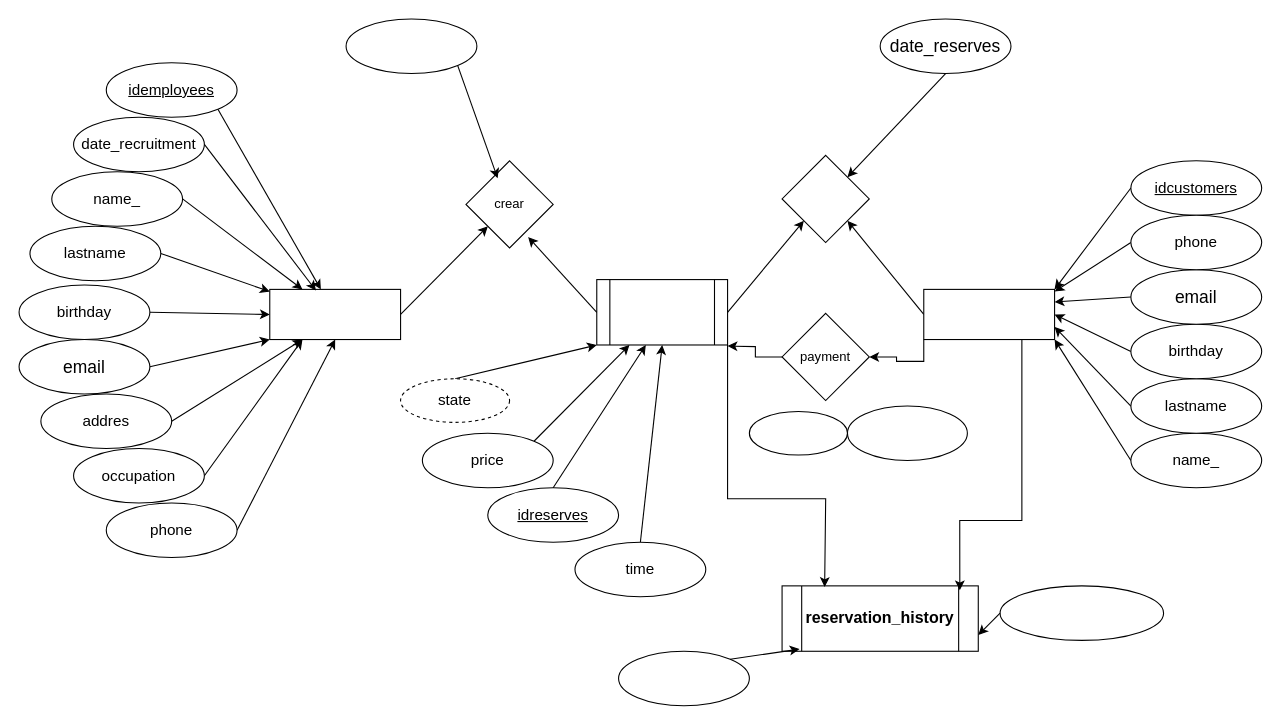
The diagram is 1281 pixels wide and 725 high, and some of its shapes have lost their labels. The shapes that lost their labels are listed below. From the top down, each one's centre as x and y in pixels, then its label:
(411,46): createAt
(825,198): hacer
(335,314): employees
(662,311): reserves
(989,314): customers
(797,432): pay_method
(906,433): idpayment
(1081,612): idreservation_history
(683,678): comment
